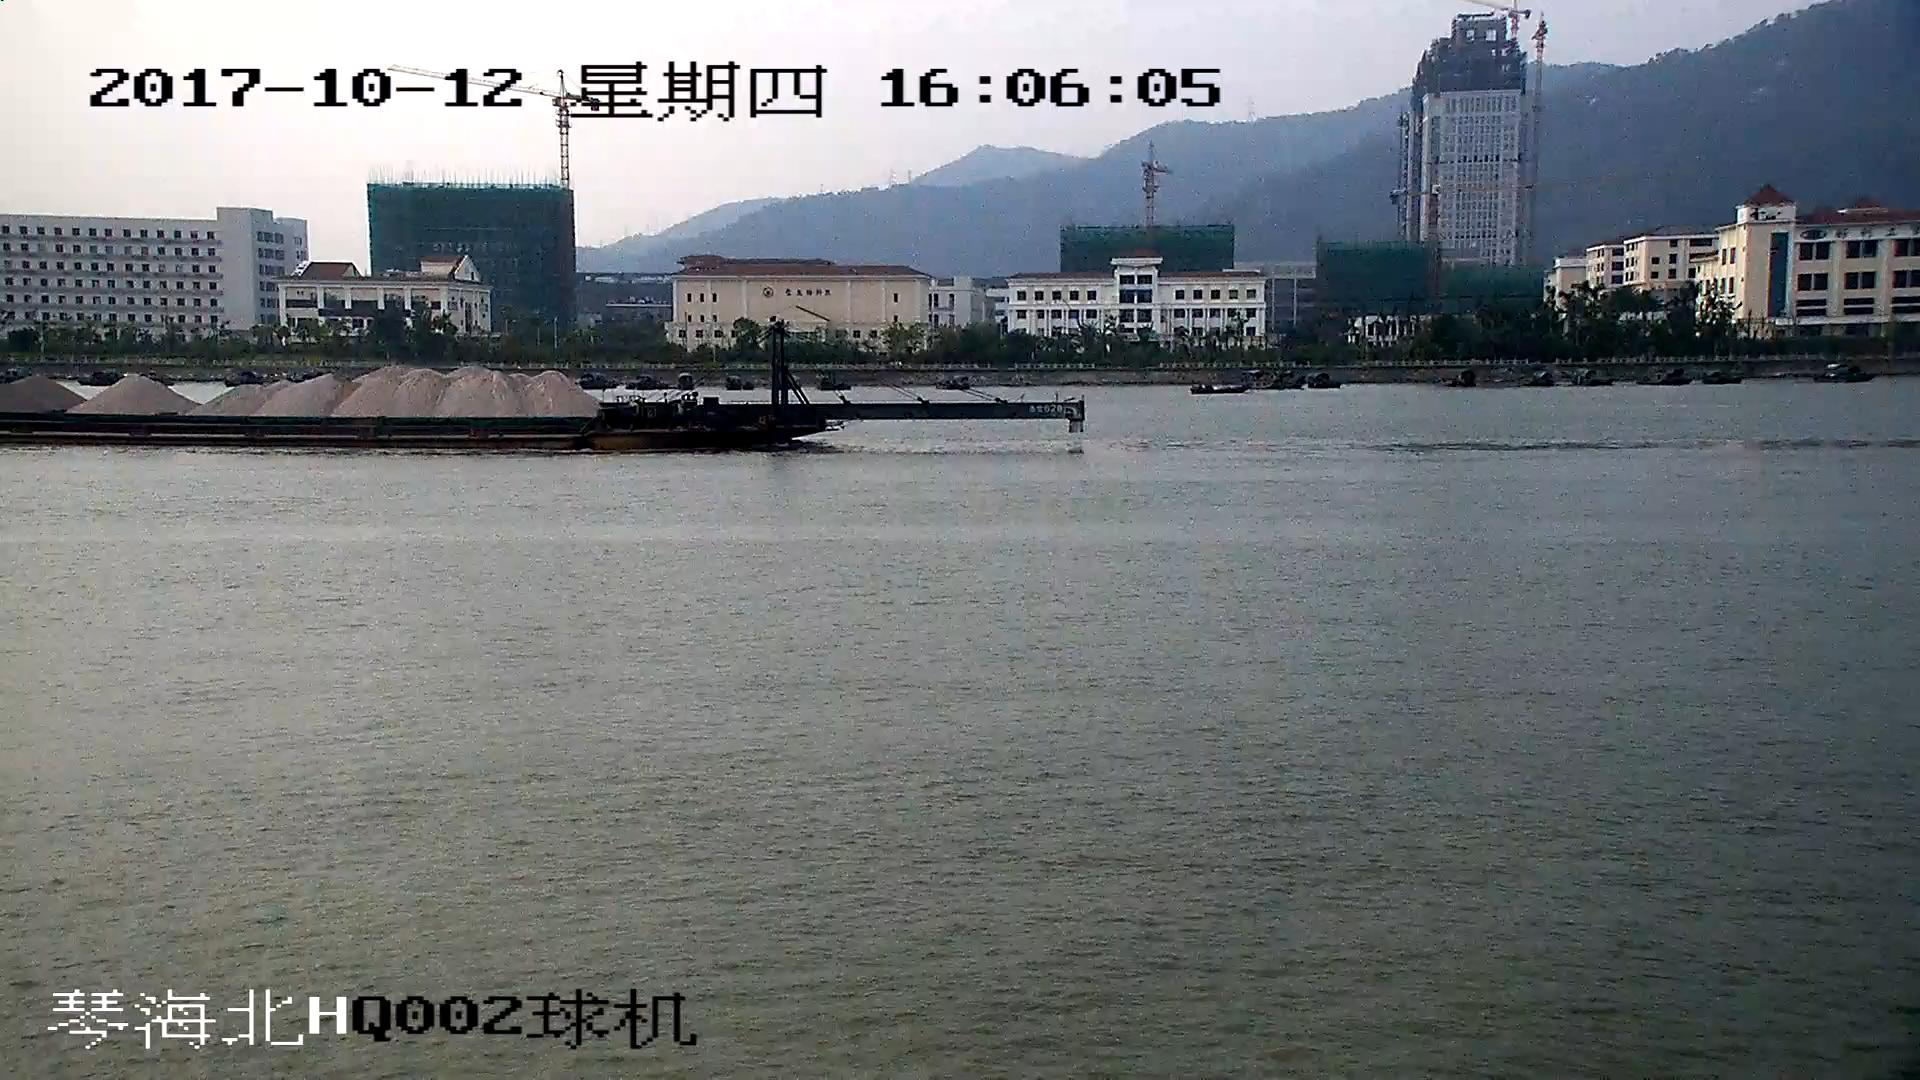ore carrier: (1, 329, 1084, 450)
